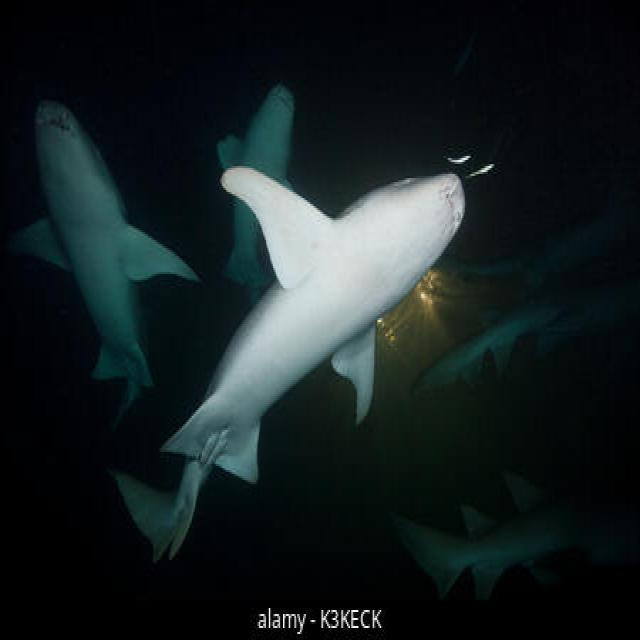Shark: (26, 46, 483, 564)
